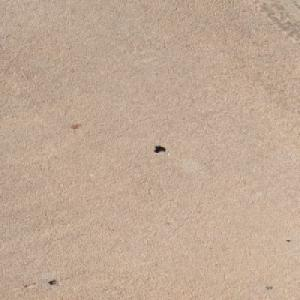BoltWasher: (153, 145, 163, 151)
